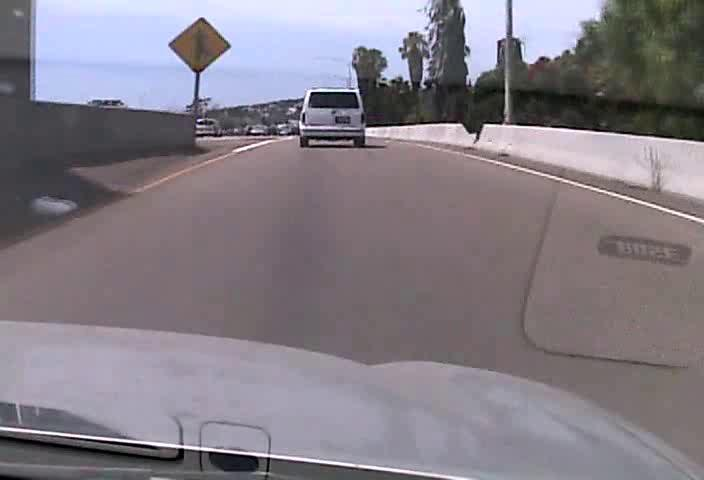merge: (167, 14, 231, 73)
